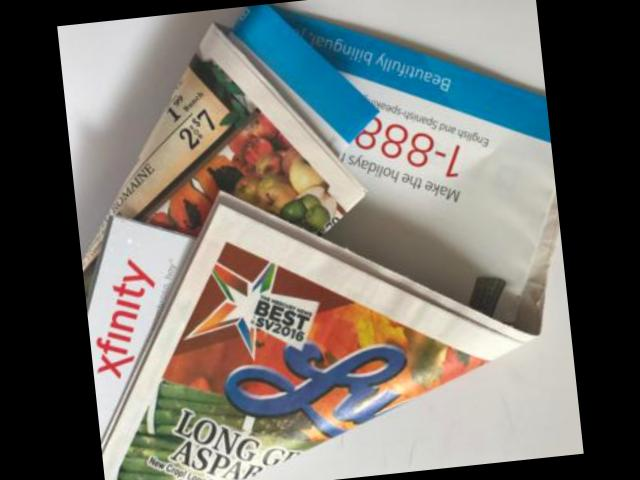cardboard paper: (81, 3, 562, 480)
